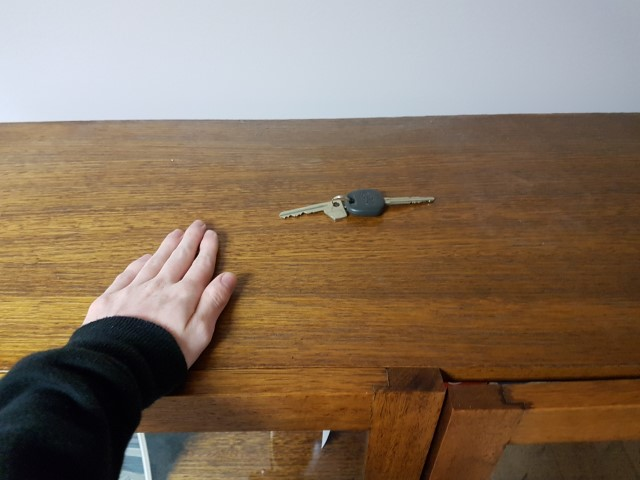key: (344, 188, 434, 216)
